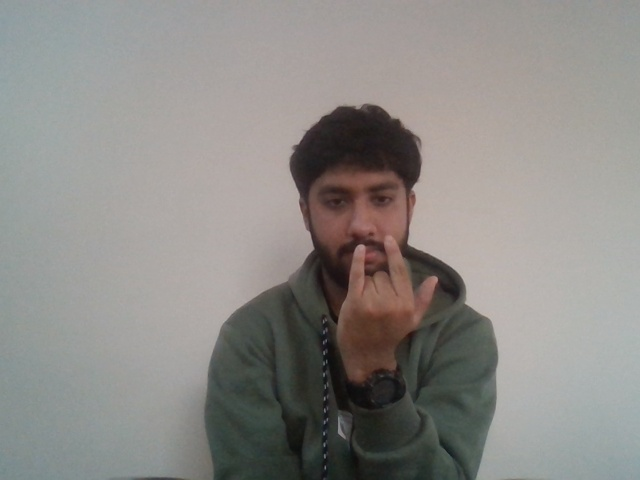IloveYou: (333, 241, 441, 337)
